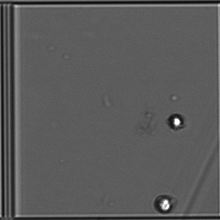Living Cell: (153, 194, 176, 215), (166, 112, 186, 131)
